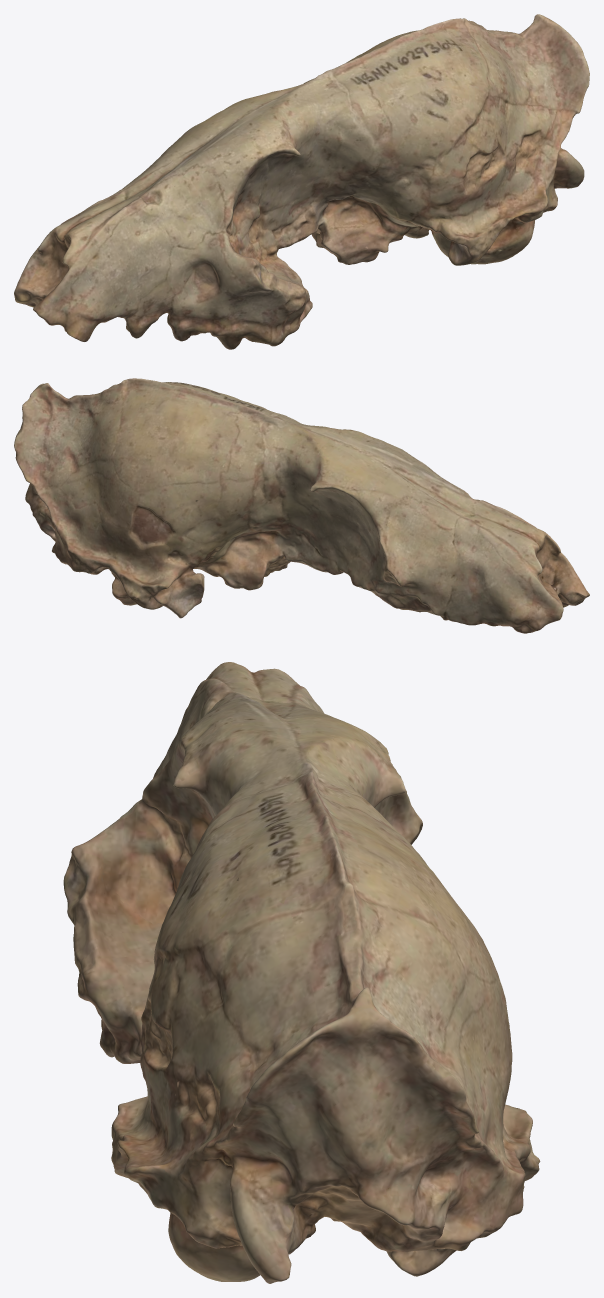
3 renders of one model, top to bottom at view 1: azimuth 30°, elevation 25°; view 2: azimuth 150°, elevation 25°; view 3: azimuth 270°, elevation 25°, orthographic. The views are drawn at different scales.
Visible parts, largest first — view 1: Hesperocyon_sp-unwrapped-webmulti; view 2: Hesperocyon_sp-unwrapped-webmulti; view 3: Hesperocyon_sp-unwrapped-webmulti.
Part boxes in pixels (<box>): Hesperocyon_sp-unwrapped-webmulti: <box>14,14,589,349</box>; Hesperocyon_sp-unwrapped-webmulti: <box>14,378,589,633</box>; Hesperocyon_sp-unwrapped-webmulti: <box>63,662,540,1283</box>.
Size of the model in its own units: 4915 by 1896 by 1947.
1 material, 1 textured.
